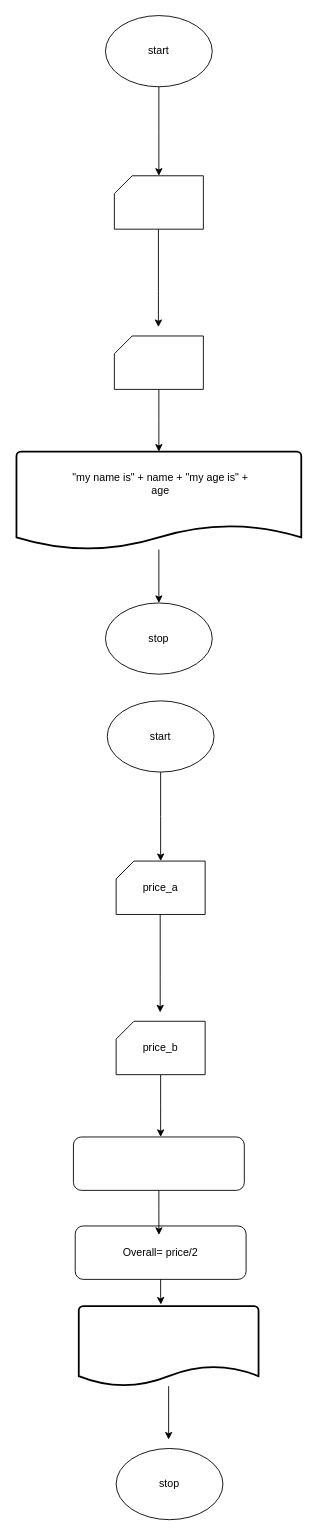
This 317x1535 diagram has some shape labels left out. The shapes that lost their labels are listed below. From the top down, each one's centre as x and y in pixels, then its label:
(x=158, y=202): name
(x=158, y=362): age
(x=158, y=1163): Sum= price_a+price_b
(x=168, y=1346): "my average price is" +overall
